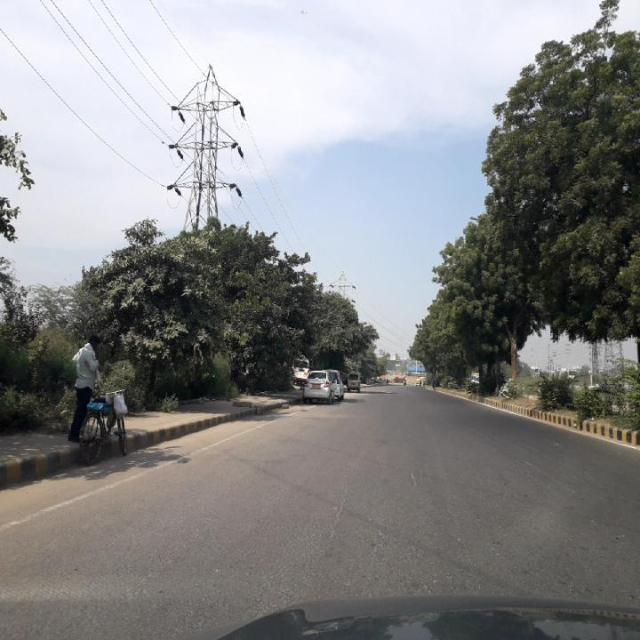Crack: (285, 457, 447, 592)
